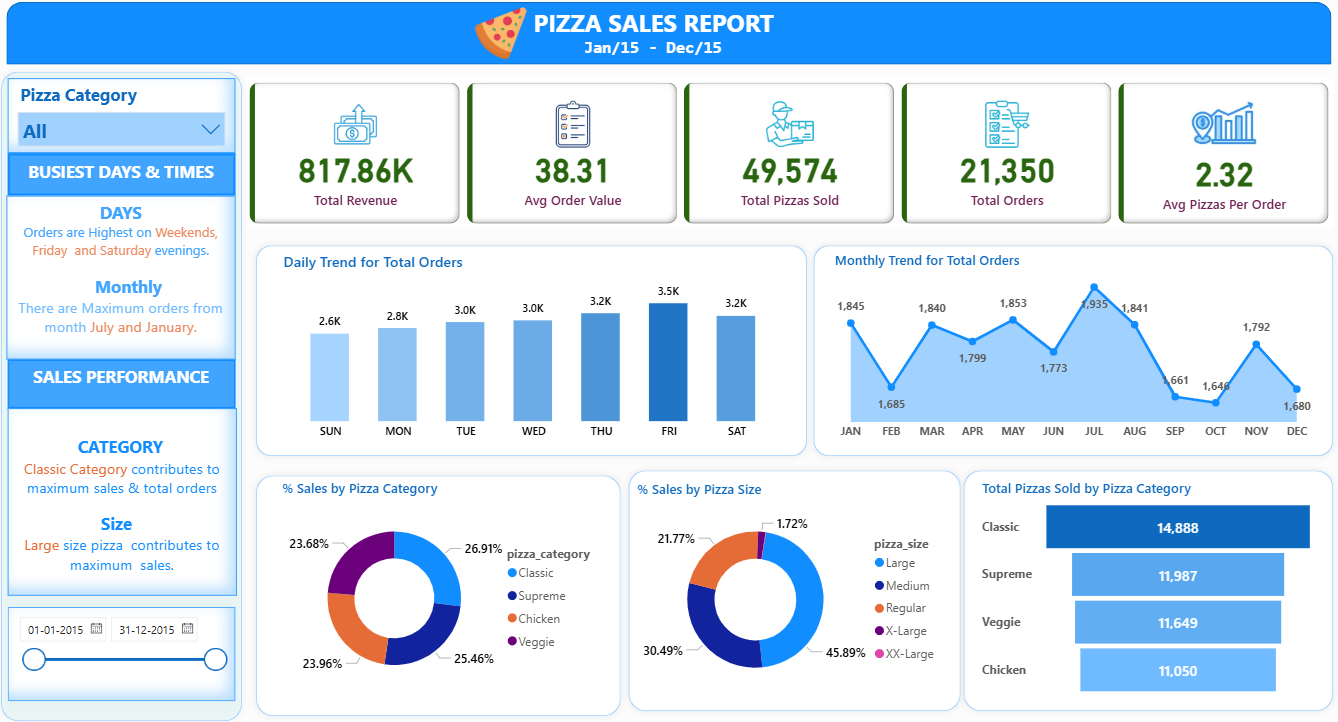

What the dashboard file says about the page in this screenshot:
{"tool":"powerbi","page":{"name":"Page 1","canvas":[1500,820],"ordinal":0},"visuals":[{"type":"cardVisual","fields":{"Data":["pizza_sales.Total Revenue","pizza_sales.Avg Order Value","pizza_sales.Total Pizzas Sold","pizza_sales.Total Orders","pizza_sales.Avg Pizzas Per Order"]},"box":[279.9,96.1,1213,167.1],"z":0},{"type":"shape","box":[13.9,11.1,1476.2,69.6],"z":1000},{"type":"textbox","box":[596.1,11.1,289.7,46],"z":2000},{"type":"textbox","box":[632.3,46,203.3,34.8],"z":3000},{"type":"image","box":[519.5,11.1,90.5,69.6],"z":4000},{"type":"shape","box":[284.1,274.4,629.5,250.7],"z":5000},{"type":"clusteredColumnChart","title":"Daily Trend for Total Orders","fields":{"Y":["pizza_sales.Total Orders"],"Category":["pizza_sales.Order Day"]},"box":[317.5,288.3,568.2,220],"z":6000},{"type":"shape","box":[905.3,274.4,594.7,250.7],"z":7000},{"type":"shape","box":[284.1,530.6,422,284.1],"z":8000},{"type":"shape","box":[1072.4,525,427.5,284.1],"z":9000},{"type":"shape","box":[699.1,525,385.8,284.1],"z":10000},{"type":"areaChart","title":"Monthly Trend  for Total Orders","fields":{"Category":["pizza_sales.Order Month"],"Y":["pizza_sales.Total Orders"]},"box":[931.7,288.3,543.1,220],"z":11000},{"type":"donutChart","title":"% Sales by Pizza Category","fields":{"Category":["pizza_sales.pizza_category"],"Y":["pizza_sales.Total Revenue"]},"box":[316.1,541.7,369.1,247.9],"z":12000},{"type":"donutChart","title":"% Sales by Pizza Size","fields":{"Category":["pizza_sales.pizza_size"],"Y":["pizza_sales.Total Revenue"]},"box":[711.7,543.1,353.7,247.9],"z":13000},{"type":"shape","box":[0,80.8,284.1,739.5],"z":14000},{"type":"funnel","title":"Total Pizzas Sold by Pizza Category","fields":{"Category":["pizza_sales.pizza_category"],"Y":["pizza_sales.Total Pizzas Sold"]},"box":[1096,541.7,380.2,247.9],"z":15000},{"type":"textbox","box":[15.3,179.7,253.5,47.4],"z":16000},{"type":"slicer","fields":{"Values":["pizza_sales.order_date"]},"box":[15.3,685.2,253.5,104.5],"z":17000},{"type":"slicer","fields":{"Values":["pizza_sales.pizza_category"]},"box":[15.3,96.1,253.5,83.6],"z":18000},{"type":"textbox","box":[13.9,227,254.9,182.4],"z":19000},{"type":"textbox","box":[15.3,463.8,254.9,208.9],"z":20000},{"type":"textbox","box":[15.3,409.4,253.5,54.3],"z":21000}]}

Visuals, with their boxes in screenshot pixels (x1, y1, x2, y2), scaled from the page's 1500x820 canvas onto the 1338x722 screenshot:
cardVisual - pizza_sales.Total Revenue x pizza_sales.Avg Order Value: 250 85 1332 232
shape: 12 10 1329 71
textbox: 532 10 790 50
textbox: 564 41 745 71
image: 463 10 544 71
shape: 253 242 815 462
"Daily Trend for Total Orders" clusteredColumnChart: 283 254 790 448
shape: 808 242 1337 462
shape: 253 467 630 717
shape: 957 462 1337 712
shape: 624 462 968 712
"Monthly Trend  for Total Orders" areaChart: 831 254 1316 448
"% Sales by Pizza Category" donutChart: 282 477 611 695
"% Sales by Pizza Size" donutChart: 635 478 950 696
shape: 0 71 253 721
"Total Pizzas Sold by Pizza Category" funnel: 978 477 1317 695
textbox: 14 158 240 200
slicer - pizza_sales.order_date: 14 603 240 695
slicer - pizza_sales.pizza_category: 14 85 240 158
textbox: 12 200 240 360
textbox: 14 408 241 592
textbox: 14 360 240 408
